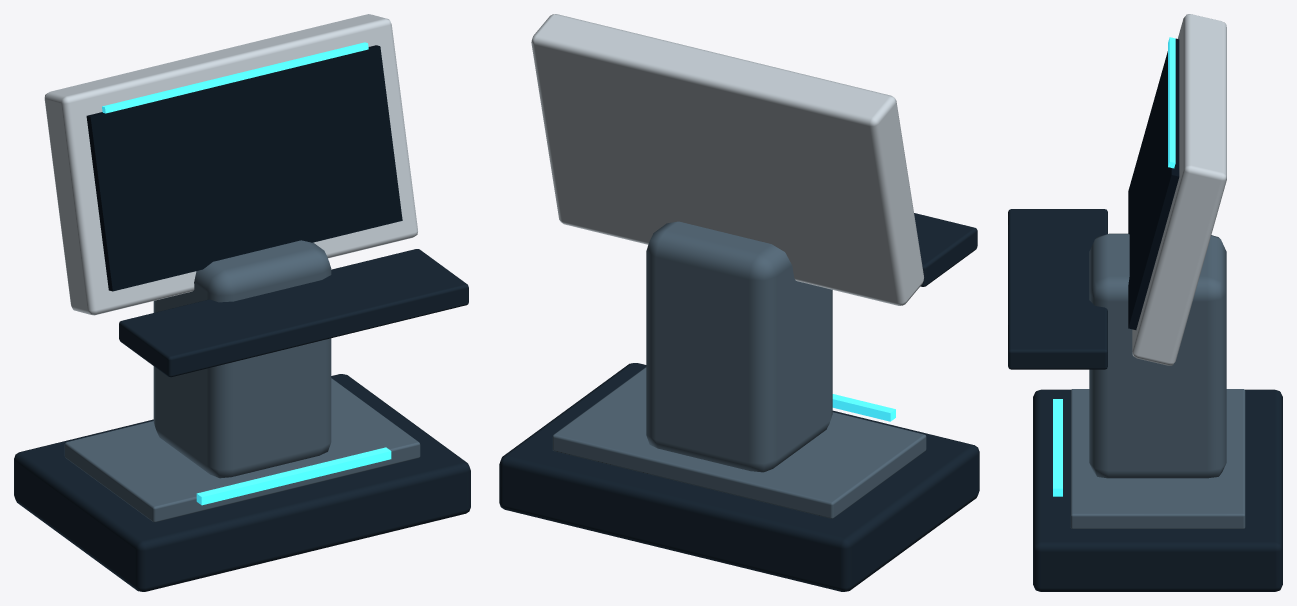
Rendered from operator-console.glb.
The picture shows the model from 3 angles, left to right: view 1: azimuth 30°, elevation 25°; view 2: azimuth 150°, elevation 25°; view 3: azimuth 270°, elevation 25°; orthographic projection. The views are drawn at different scales.
Visible parts, largest first — view 1: display, base, stem, frame, controls, inlay, status_strip, status; view 2: frame, stem, base, inlay, controls, status_strip; view 3: base, stem, frame, controls, inlay, display, status, status_strip.
Boxes of the visible parts, x1,y1,x2,y2 form: display: (86,45,402,291); base: (14,374,470,591); stem: (153,240,331,478); frame: (44,14,417,315); controls: (119,249,468,377); inlay: (64,378,420,522); status_strip: (196,447,391,505); status: (102,42,368,113); frame: (531,14,923,305); stem: (646,221,832,472); base: (499,363,979,591); inlay: (552,367,926,518); controls: (914,213,977,286); status_strip: (832,394,895,421); base: (1033,389,1282,591); stem: (1089,233,1226,478); frame: (1132,14,1226,365); controls: (1008,209,1107,369); inlay: (1070,389,1245,528); display: (1128,38,1179,329); status: (1168,37,1175,168); status_strip: (1053,399,1062,496).
Size of the model in its own units: 1.5 by 1.88 by 1.1.
